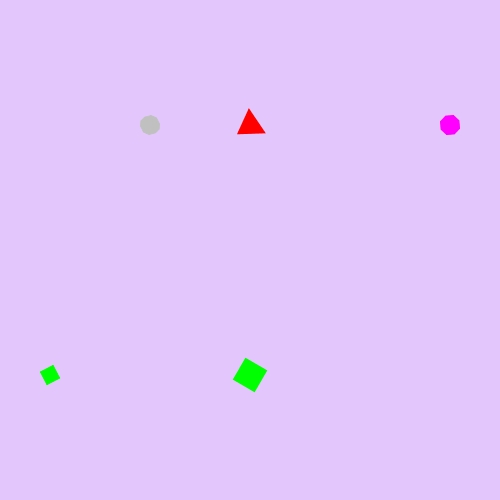decagon: (135, 111, 165, 139)
octagon: (435, 110, 465, 140)
quadrilateral: (229, 354, 272, 397), (35, 360, 65, 390)
triangle: (233, 108, 267, 143)
